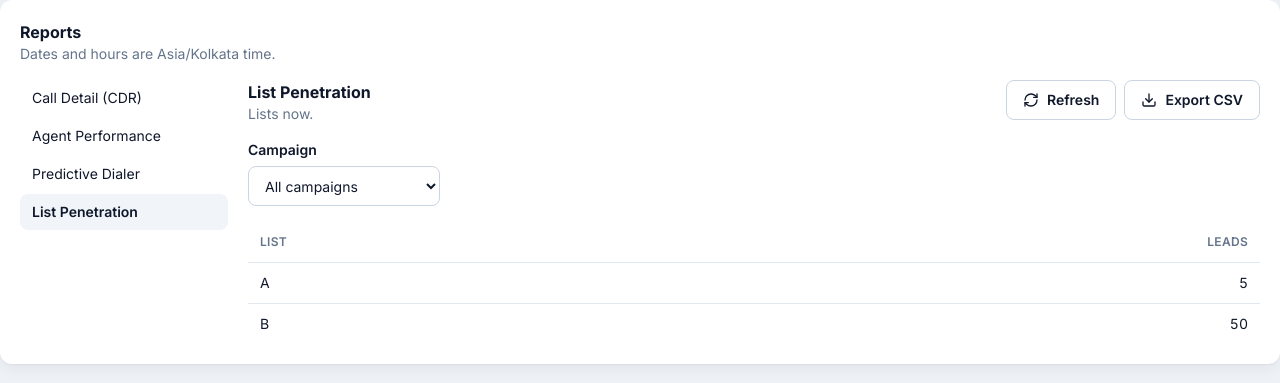
Scenario: Reports › a report about the current state has no dates; columns sort on click
Expected: the text "A" is shown, [248, 262, 694, 303]
What coordinates should you click on to do the following:
click the button "Leads"
I would click on:
 (1228, 242)
Its box is [1207, 234, 1248, 250].
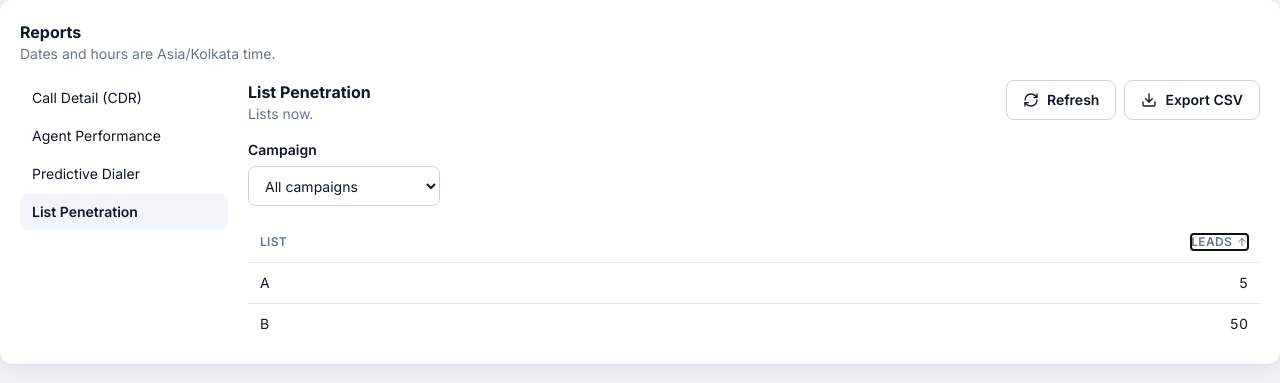
What coordinates should you click on to do the following:
click the button "Leads"
I would click on:
 (1220, 242)
Its box is [1191, 234, 1248, 250].
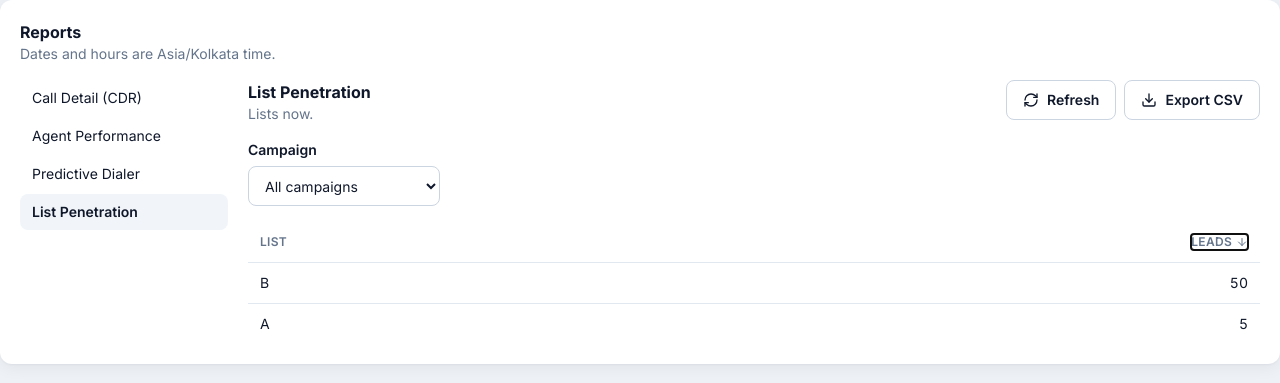
Expected: the text "B" is shown, [248, 262, 640, 303]
